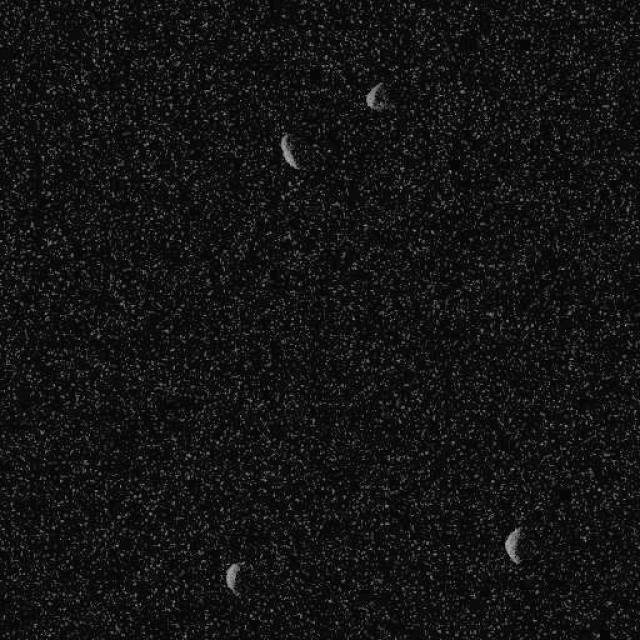D2: (278, 131, 302, 170), (504, 525, 524, 564), (363, 80, 388, 111), (224, 560, 244, 596)
